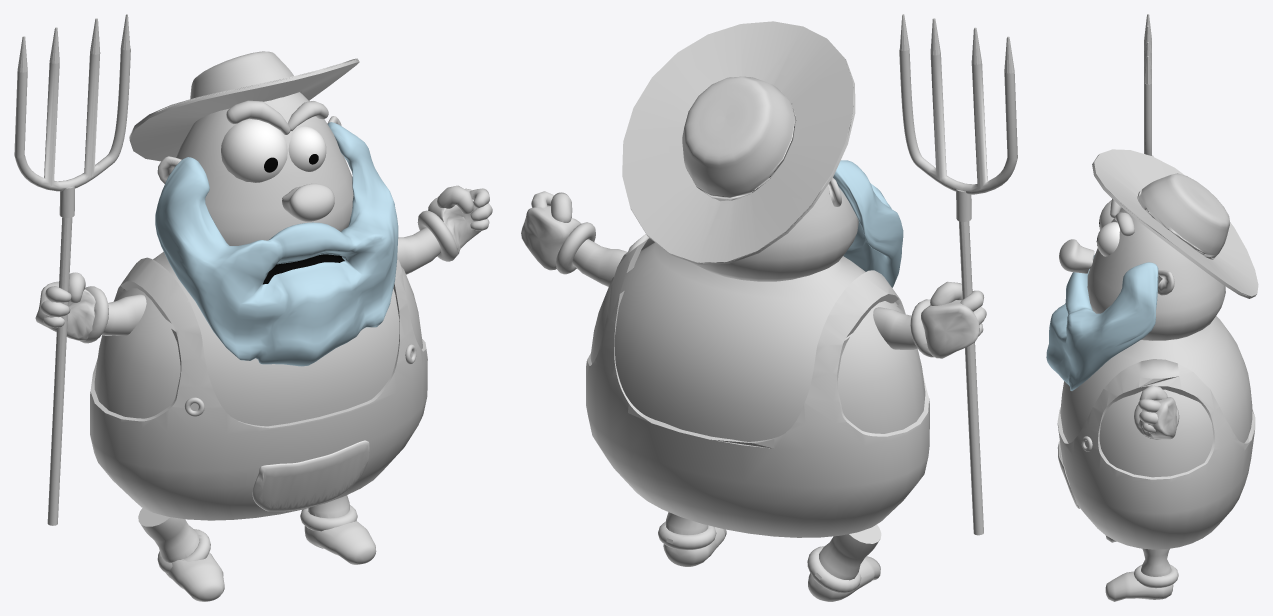
File: granjero sin animación.FBX
3 renders of one model, left to right at view 1: azimuth 30°, elevation 25°; view 2: azimuth 150°, elevation 25°; view 3: azimuth 270°, elevation 25°, orthographic. The views are drawn at different scales.
Parts seen in each view (by area): view 1: overol, Barba, Cuerpo, Cabeza, Rastrillo, Sombrero, Bolsillo, Mano derecha, Mano izquierda, Ojo izquierdo, Pie izquierdo, zapato derecho (+8 smaller); view 2: Sombrero, Cuerpo, overol, Rastrillo, Cabeza, Barba, Mano izquierda, Mano derecha, Pie izquierdo, Pie derecho, Brazo derecho, Brazo izquierda (+2 smaller); view 3: overol, Cuerpo, Sombrero, Barba, Cabeza, Mano derecha, Pie derecho, zapato derecho, Rastrillo, Nariz, Ojo derecho, Oreja derecha (+1 smaller).
Boxes of the visible parts, x1,y1,x2,y2 form: overol: (90,257,427,520); Barba: (155,122,398,366); Cuerpo: (94,251,422,426); Cabeza: (176,92,353,245); Rastrillo: (14,14,130,525); Sombrero: (129,51,359,161); Bolsillo: (252,440,369,511); Mano derecha: (417,185,492,261); Mano izquierda: (35,272,108,343); Ojo izquierdo: (221,119,287,182); Pie izquierdo: (138,508,210,573); zapato derecho: (304,521,376,564); Sombrero: (622,21,855,264); Cuerpo: (590,242,925,441); overol: (586,234,929,537); Rastrillo: (899,14,1017,535); Cabeza: (689,111,858,281); Barba: (833,160,903,287); Mano izquierda: (910,281,986,358); Mano derecha: (521,191,595,274); Pie izquierdo: (807,524,881,592); Pie derecho: (658,512,716,549); Brazo derecho: (572,239,627,286); Brazo izquierda: (873,307,917,349); overol: (1057,359,1255,549); Cuerpo: (1060,316,1252,477); Sombrero: (1092,149,1258,298); Barba: (1046,255,1158,390); Cabeza: (1087,207,1225,340); Mano derecha: (1134,385,1179,439); Pie derecho: (1134,548,1178,588); zapato derecho: (1105,571,1173,601); Rastrillo: (1144,14,1153,156); Nariz: (1059,239,1094,273); Ojo derecho: (1096,222,1119,256); Oreja derecha: (1157,270,1174,295).
Size of the model in its own units: 149 by 176 by 72.62.
